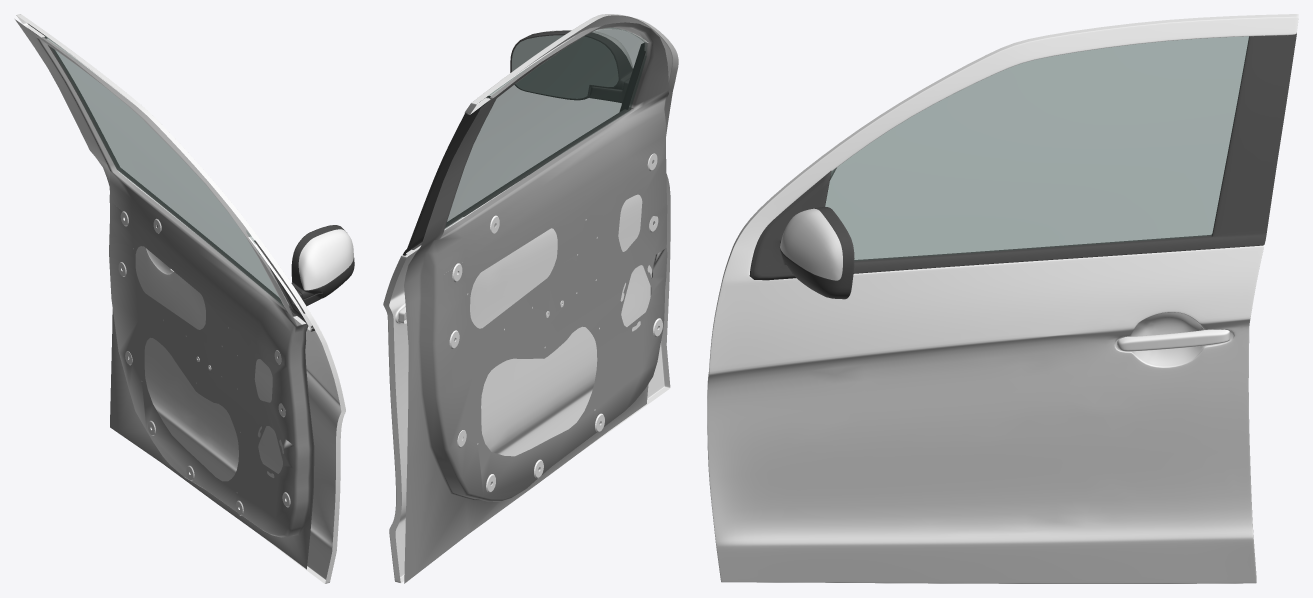
The model's file is DoorFrame.fbx.
3 renders of one model, left to right at view 1: azimuth 30°, elevation 25°; view 2: azimuth 150°, elevation 25°; view 3: azimuth 270°, elevation 25°, orthographic. The views are drawn at different scales.
Parts seen in each view (by area): view 1: Mitsubishi_Outlander_Sport_2012.001; view 2: Mitsubishi_Outlander_Sport_2012.001; view 3: Mitsubishi_Outlander_Sport_2012.001.
Part boxes in pixels (x1,y1,x2,y2): Mitsubishi_Outlander_Sport_2012.001: [15, 14, 354, 583]; Mitsubishi_Outlander_Sport_2012.001: [383, 14, 678, 583]; Mitsubishi_Outlander_Sport_2012.001: [707, 14, 1298, 583].
Size of the model in its own units: 43.23 by 111 by 115.
